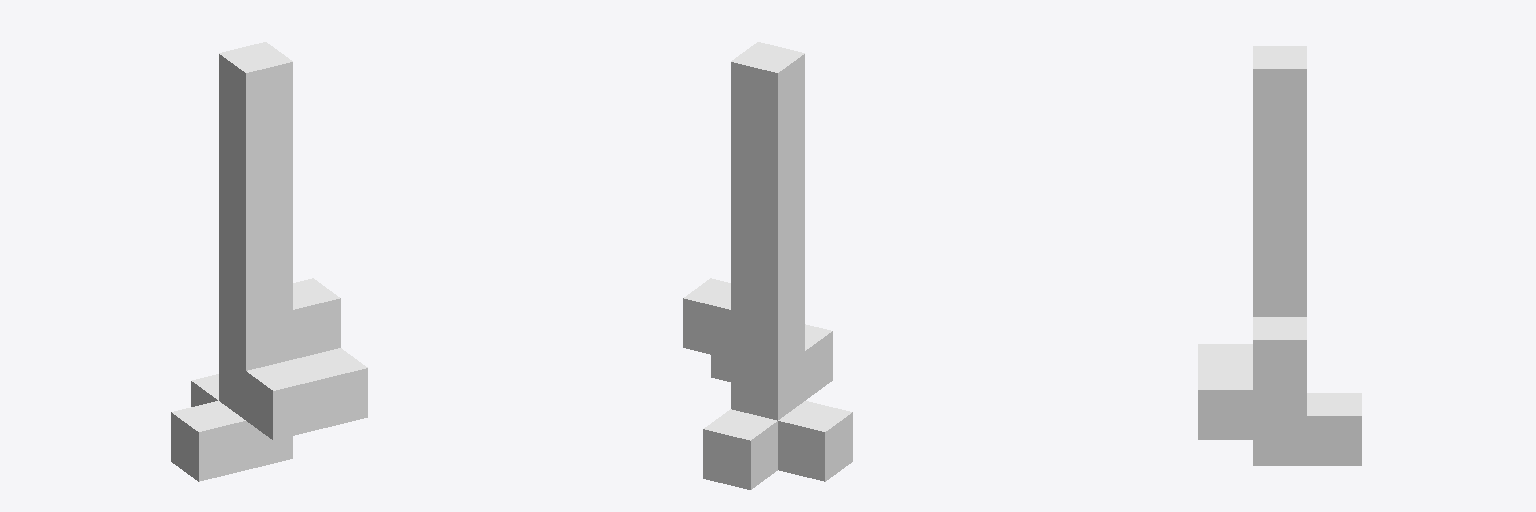
Rendered from farm-26-tomato_growth1.obj.
3 views of the same model, side by side, from view 1: azimuth 30°, elevation 25°; view 2: azimuth 150°, elevation 25°; view 3: azimuth 270°, elevation 25° (orthographic).
Visible parts, largest first — view 1: tomato_growth1; view 2: tomato_growth1; view 3: tomato_growth1.
Part boxes in pixels (left/top/right/bottom): tomato_growth1: left=171, top=42, right=367, bottom=481; tomato_growth1: left=683, top=42, right=852, bottom=489; tomato_growth1: left=1198, top=46, right=1361, bottom=465.
Bounding box in the file's own units: 0.3 × 0.8 × 0.3.